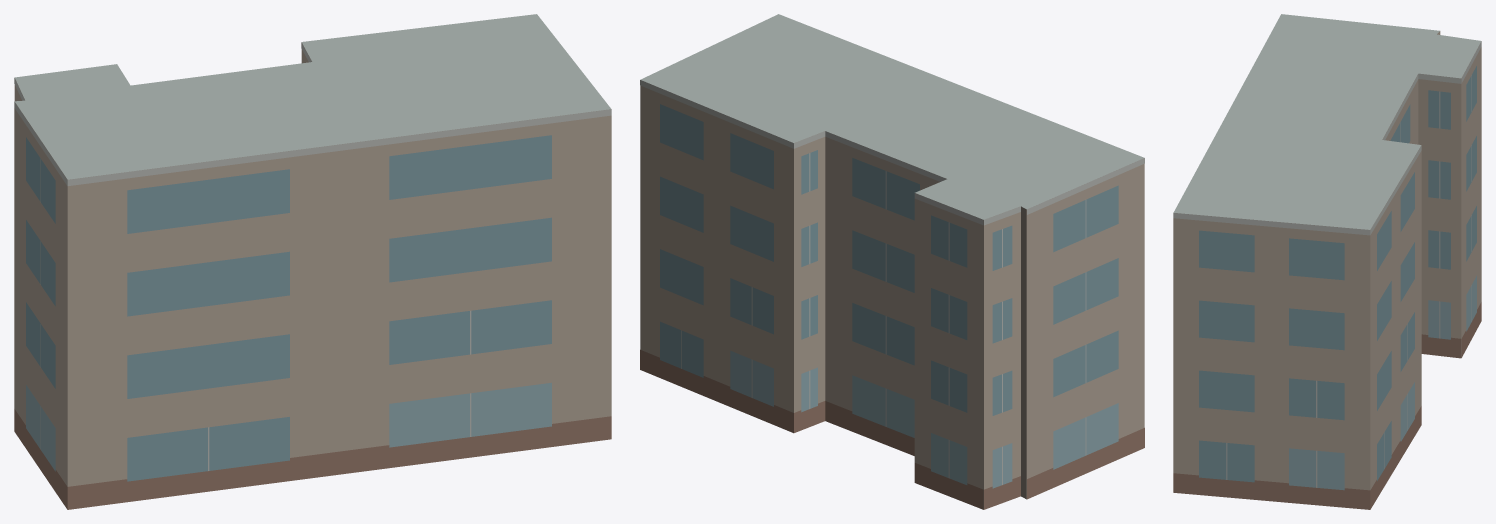
Rendered from survey-upis-32614271.glb.
3 renders of one model, left to right at view 1: azimuth 30°, elevation 25°; view 2: azimuth 150°, elevation 25°; view 3: azimuth 270°, elevation 25°, orthographic. The views are drawn at different scales.
Visible parts, largest first — view 1: survey-upis-32614271.tmp; view 2: survey-upis-32614271.tmp; view 3: survey-upis-32614271.tmp.
Part boxes in pixels (bbox=[...]): survey-upis-32614271.tmp: bbox=[14, 14, 611, 509]; survey-upis-32614271.tmp: bbox=[640, 14, 1144, 509]; survey-upis-32614271.tmp: bbox=[1173, 14, 1481, 509].
Size of the model in its own units: 20.61 by 12.45 by 12.43.
